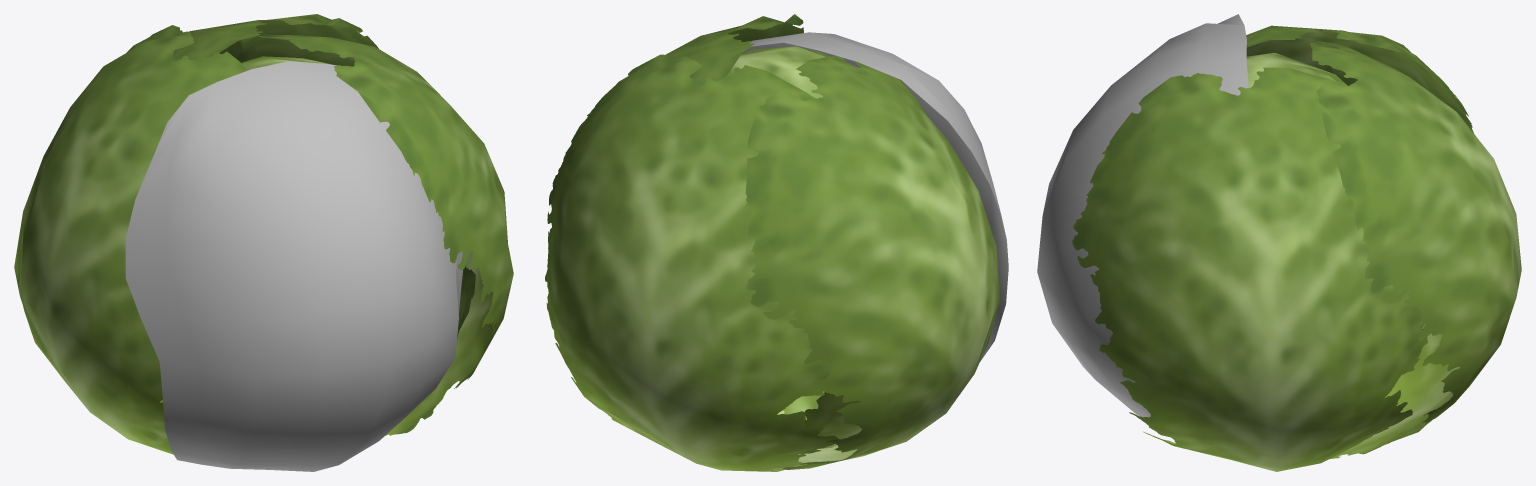
Rendered from LettuceBall.fbx.
The picture shows the model from 3 angles, left to right: view 1: azimuth 30°, elevation 25°; view 2: azimuth 150°, elevation 25°; view 3: azimuth 270°, elevation 25°; orthographic projection. The views are drawn at different scales.
Parts seen in each view (by area): view 1: LettuceBallLeaf4, LettuceBallLeaf3, LettuceBallLeaf1, LettuceBallLeaf2, LettuceBallLeaf5, LettuceBallLeaf6; view 2: LettuceBallLeaf2, LettuceBallLeaf3, LettuceBallLeaf4, LettuceBallLeaf1, LettuceBallLeaf6, LettuceBallLeaf5; view 3: LettuceBallLeaf1, LettuceBallLeaf2, LettuceBallLeaf4, LettuceBallLeaf3, LettuceBallLeaf6.
Boxes of the visible parts, x1=… form: LettuceBallLeaf4: x1=125, y1=61, x2=462, y2=471; LettuceBallLeaf3: x1=14, y1=25, x2=247, y2=454; LettuceBallLeaf1: x1=236, y1=34, x2=513, y2=435; LettuceBallLeaf2: x1=172, y1=14, x2=378, y2=60; LettuceBallLeaf5: x1=159, y1=265, x2=475, y2=402; LettuceBallLeaf6: x1=241, y1=56, x2=331, y2=70; LettuceBallLeaf2: x1=545, y1=54, x2=838, y2=471; LettuceBallLeaf3: x1=744, y1=56, x2=1000, y2=469; LettuceBallLeaf4: x1=742, y1=32, x2=1008, y2=361; LettuceBallLeaf1: x1=617, y1=14, x2=803, y2=414; LettuceBallLeaf6: x1=728, y1=46, x2=829, y2=98; LettuceBallLeaf5: x1=783, y1=391, x2=861, y2=448; LettuceBallLeaf1: x1=1072, y1=67, x2=1427, y2=471; LettuceBallLeaf2: x1=1310, y1=41, x2=1521, y2=460; LettuceBallLeaf4: x1=1037, y1=14, x2=1248, y2=417; LettuceBallLeaf3: x1=1246, y1=25, x2=1473, y2=133; LettuceBallLeaf6: x1=1246, y1=53, x2=1345, y2=87.
Bounding box in the file's own units: 940 × 840 × 940.
